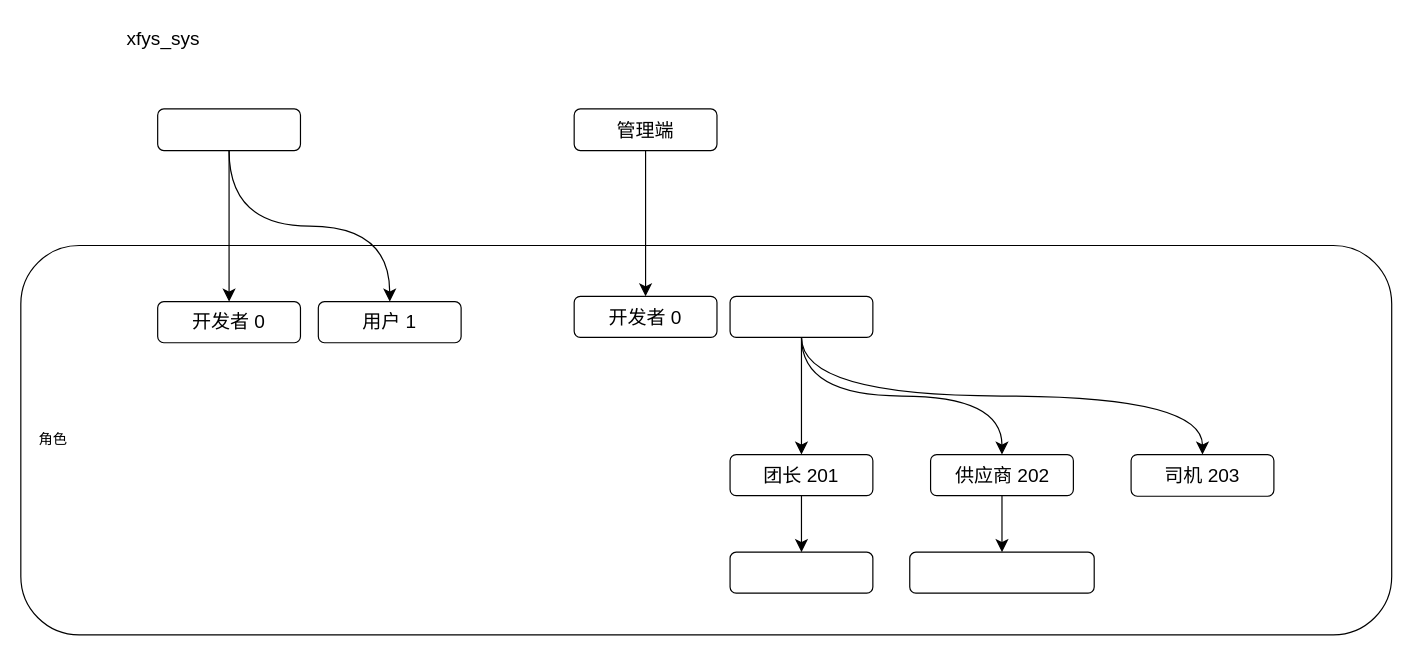
This 1413x656 diagram has some shape labels left out. Here are the shapes that lost their labels. From the top down, the centre of each, then its label:
point 228,129: 顾客端
point 801,316: 代理 2
point 801,572: 预留 20101
point 1001,572: 收件发件员 20201
